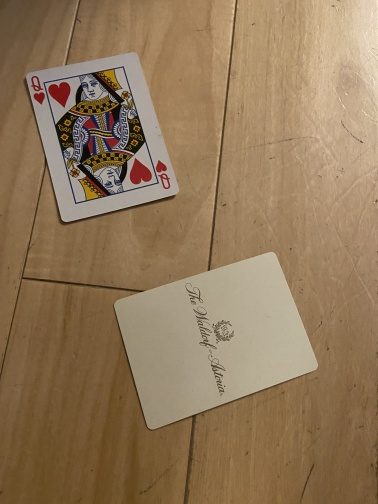queen: (25, 51, 181, 224)
